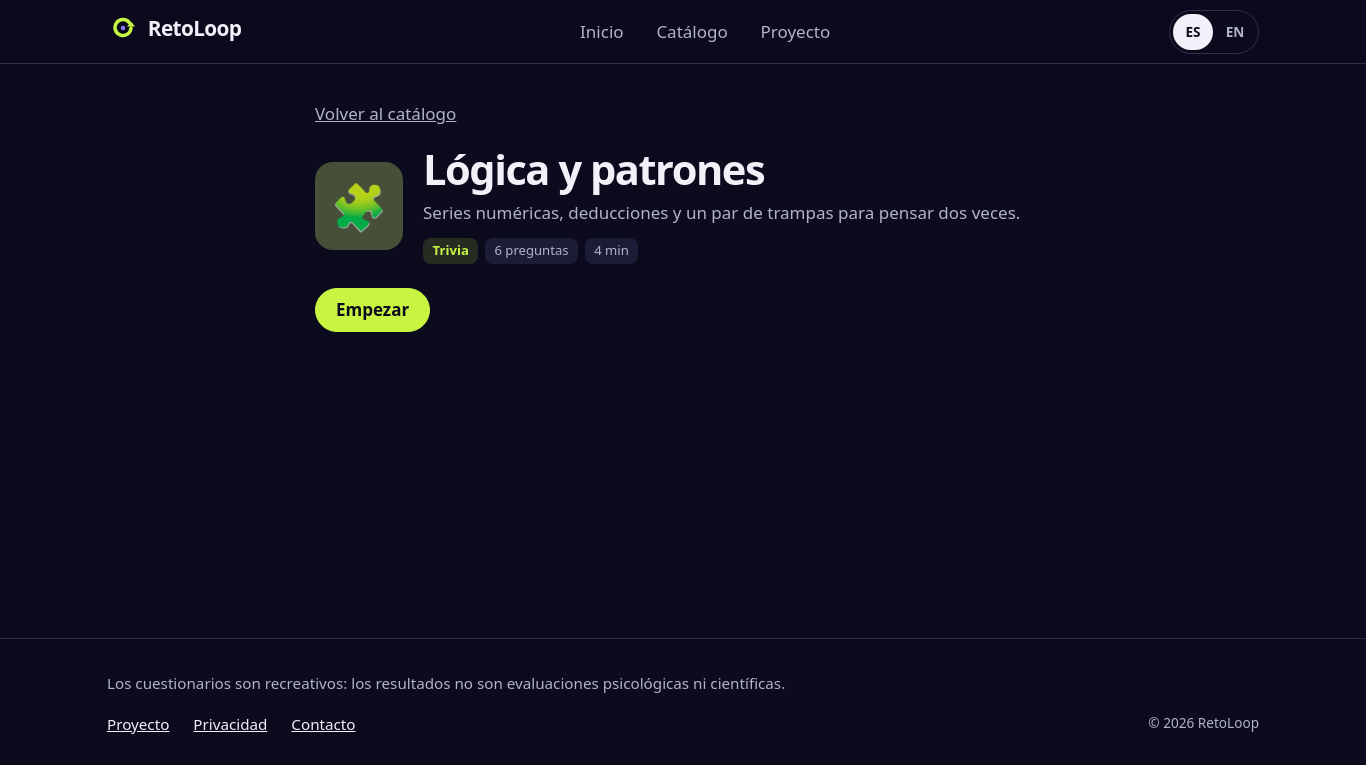
Test: cuestionario de trivia › exige elegir una respuesta antes de avanzar
The width and height of the screenshot is (1366, 765).
Step 1. Click the button "Empezar" → (373, 310), box [315, 288, 430, 332]
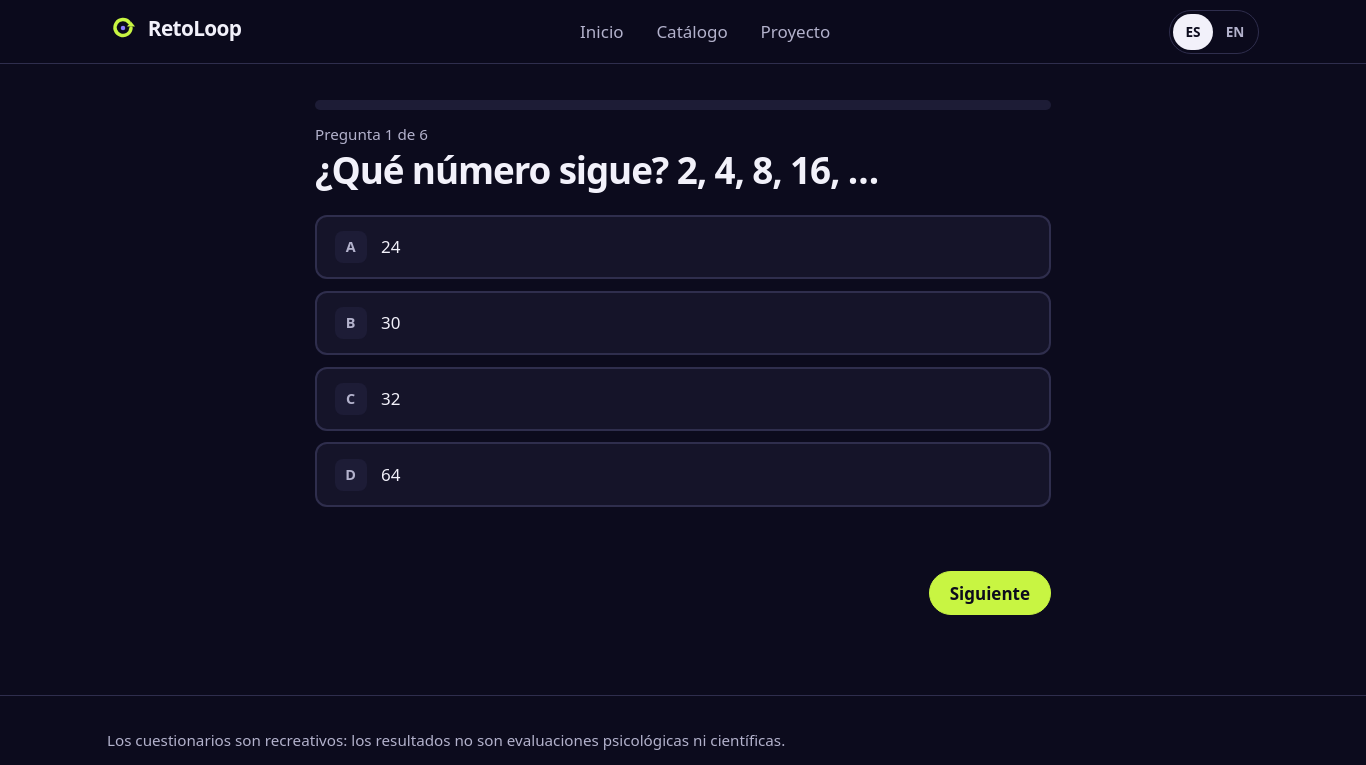
Step 2. Click the button "Siguiente" → (990, 593), box [929, 571, 1051, 615]
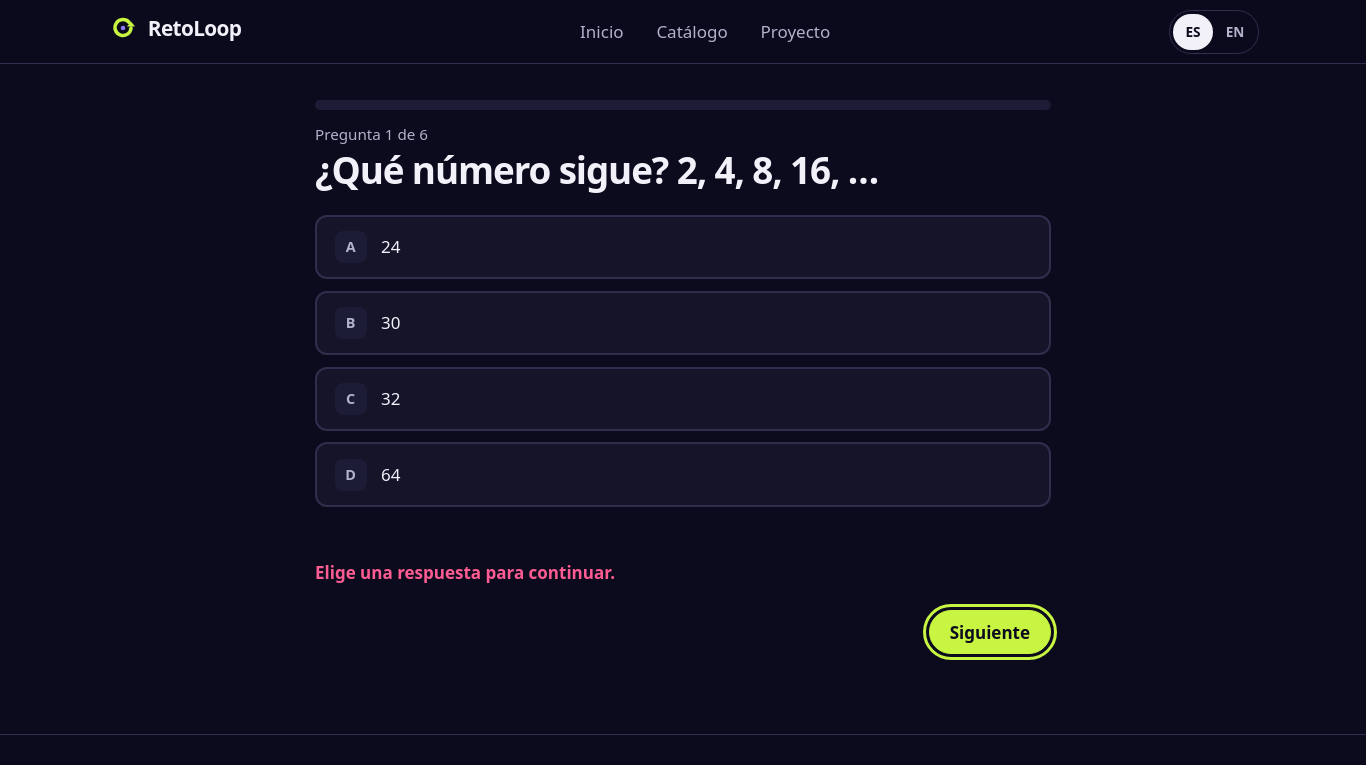
Now the text "Pregunta 1 de 6" is shown, box [315, 124, 428, 144]
Now the message "Elige una respuesta para continuar." is shown, box [315, 561, 615, 584]
Step 3. Click the radio button labelled "32" → (351, 399), box [315, 366, 1051, 431]
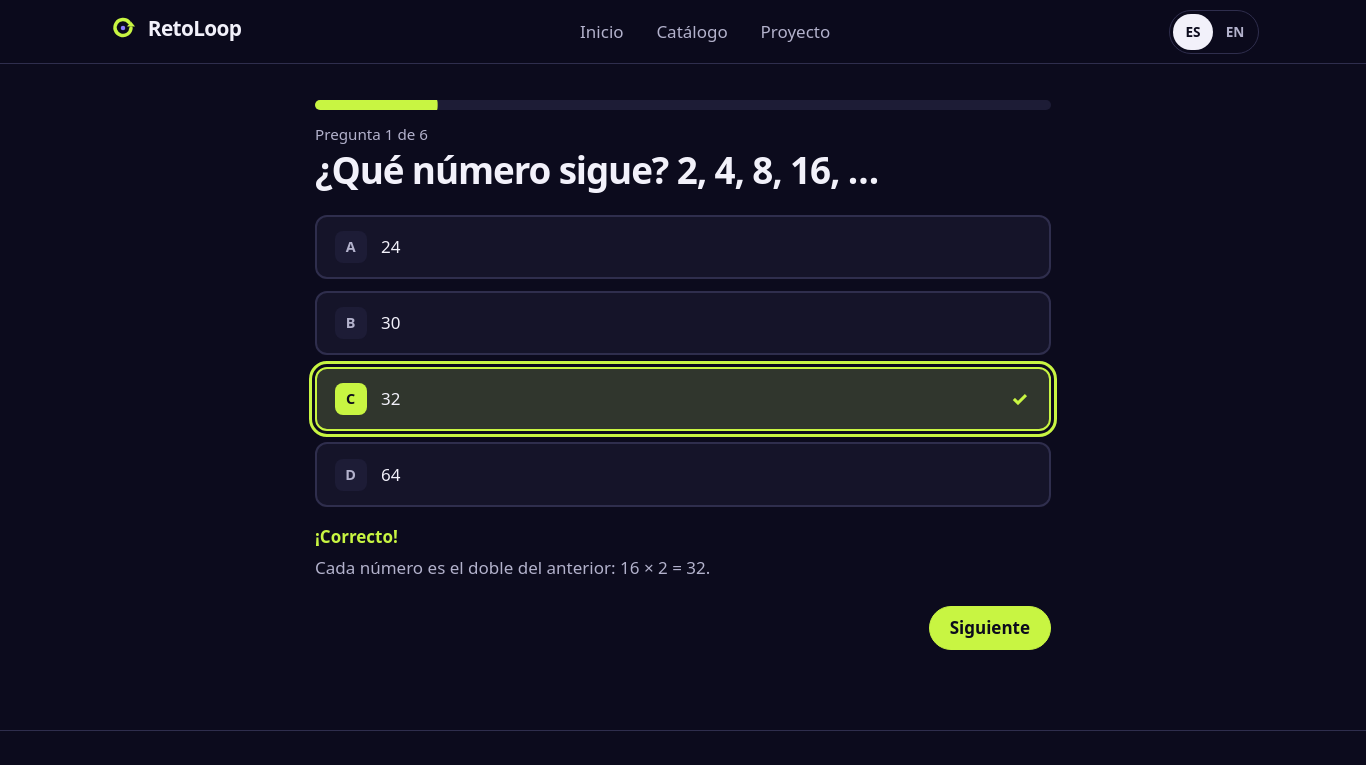
Now the message "Elige una respuesta para continuar." is gone
